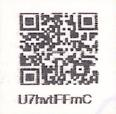QR-CODE: (17, 10, 102, 87)
